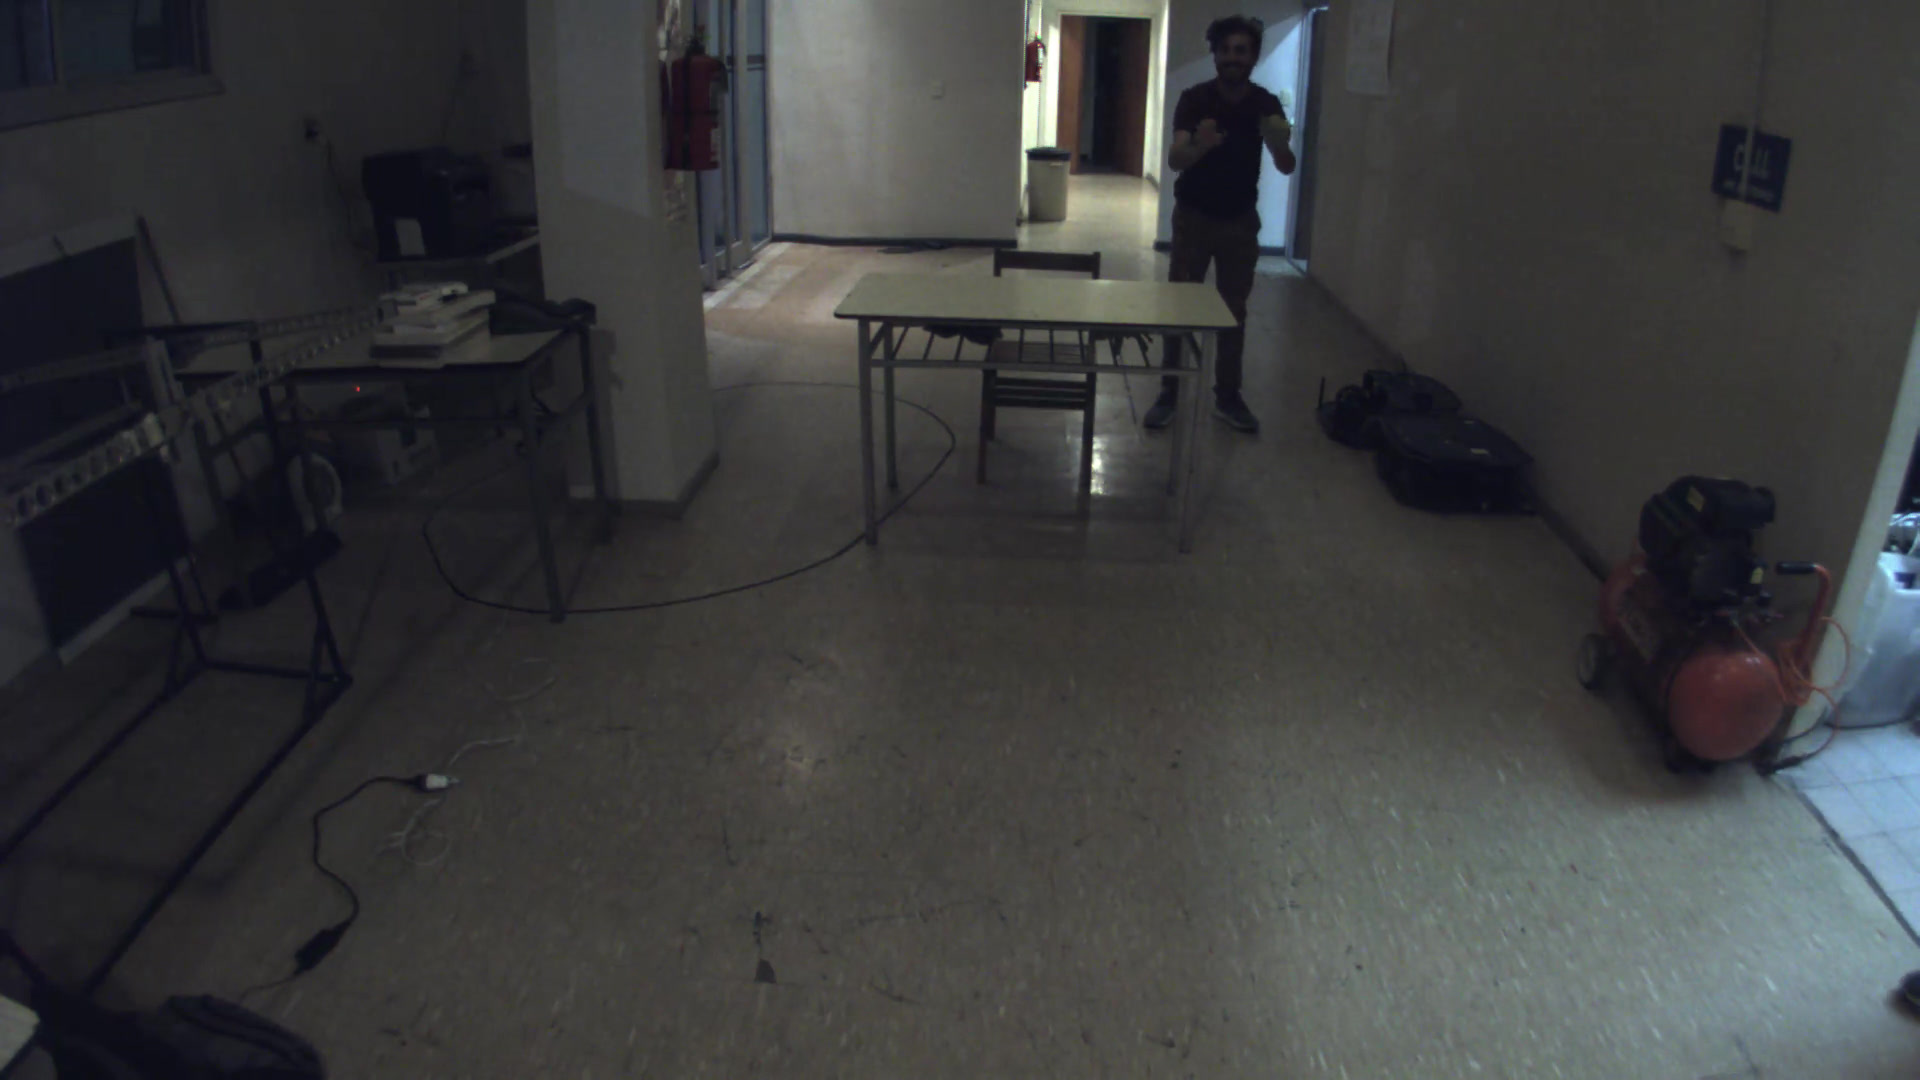hand: (1196, 109, 1238, 160), (1261, 102, 1305, 146)
